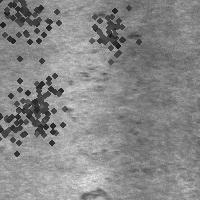rolled-in_scale: (0, 44, 97, 160), (0, 0, 75, 70), (91, 110, 158, 184), (76, 0, 140, 63), (3, 77, 65, 139), (61, 61, 108, 118), (0, 92, 35, 162)
